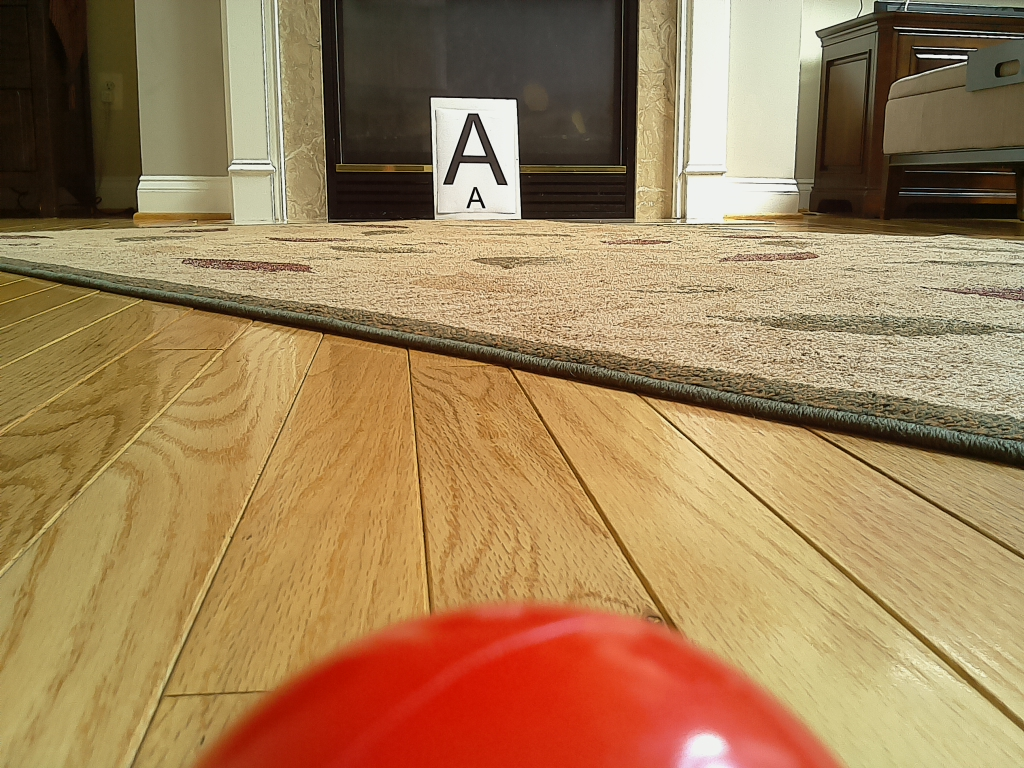letter: (443, 114, 509, 189)
